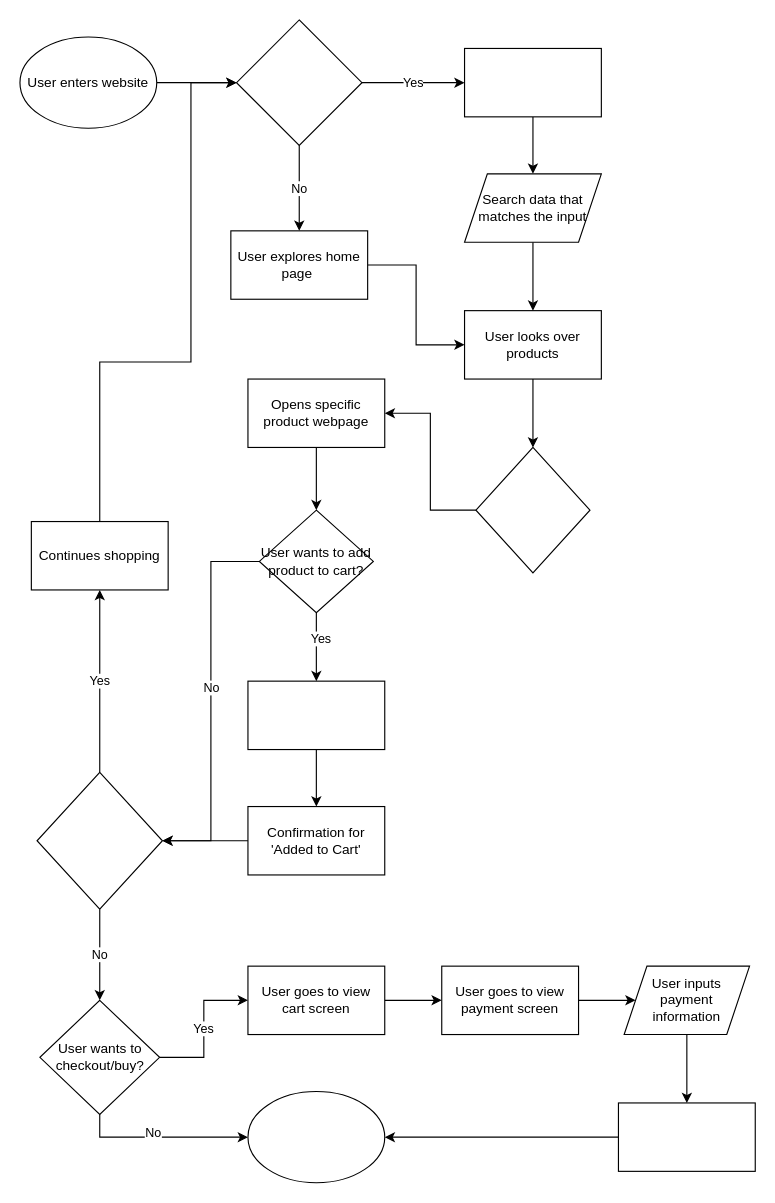
This 775x1203 diagram has some shape labels left out. The shapes that lost their labels are listed below. From the top down, each one's centre as x and y in pixels, then its label:
At [298,82]: "User wants to search".
At [532,82]: "User inputs data into search bar".
At [532,509]: "User wants specific product".
At [316,715]: "User adds to cart".
At [99,840]: "User wants to continue shopping?".
At [686,1136]: "User sees order confirmation screen and recieves email".
